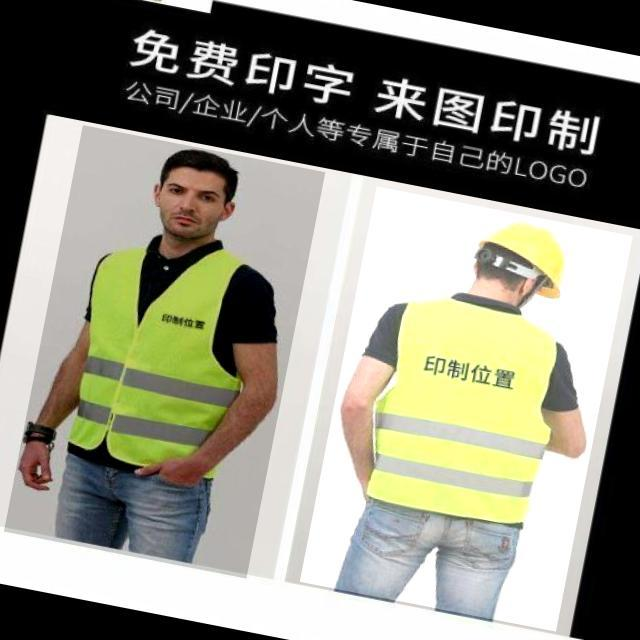Helmet: (467, 211, 574, 303)
Human: (300, 187, 633, 632), (4, 126, 325, 580)
Safety Vest: (55, 221, 270, 491), (354, 286, 571, 537)
